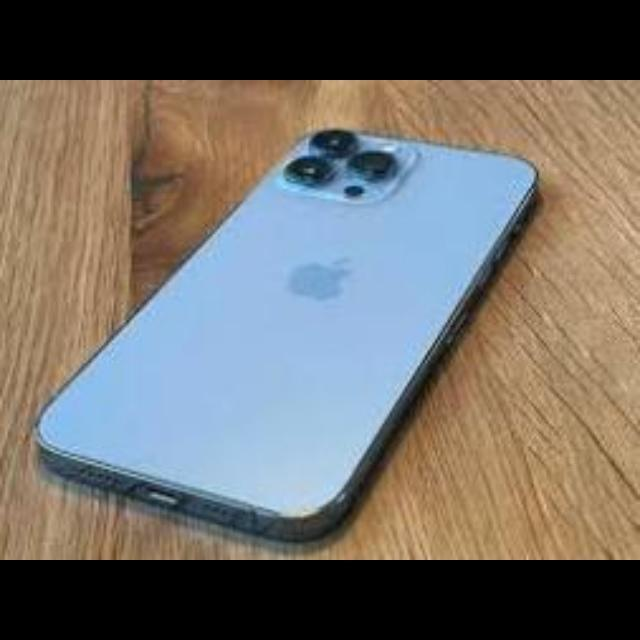PhoneUse: (29, 134, 557, 526)
